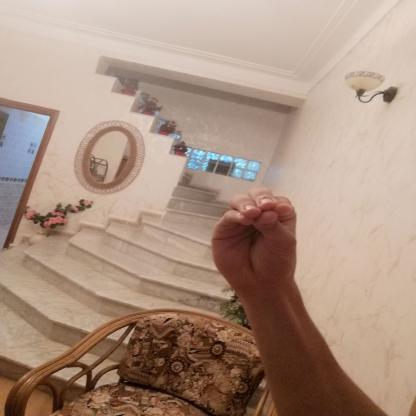HA: (198, 174, 316, 302)
